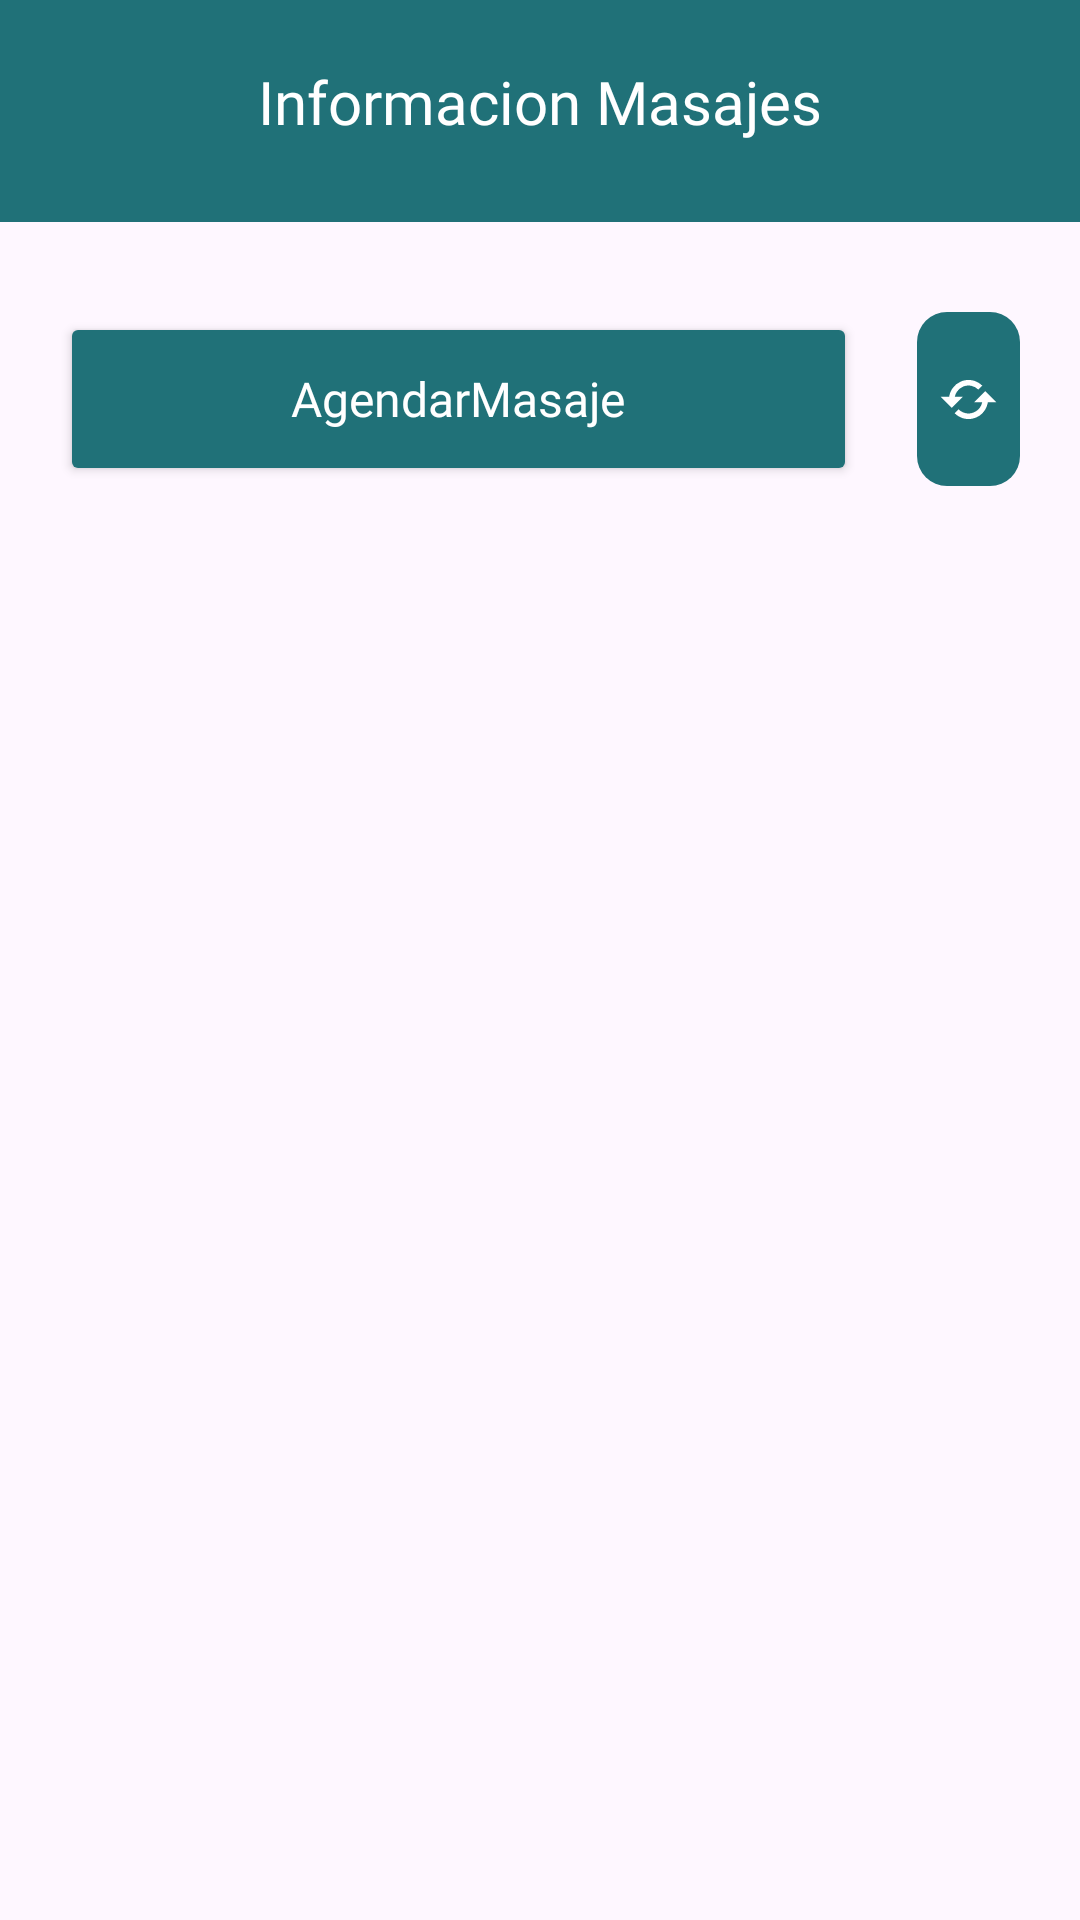

Icons on this 1080×1920 Android screen, each with the point to tap as point (x, y):
refresh: point (968, 399)
